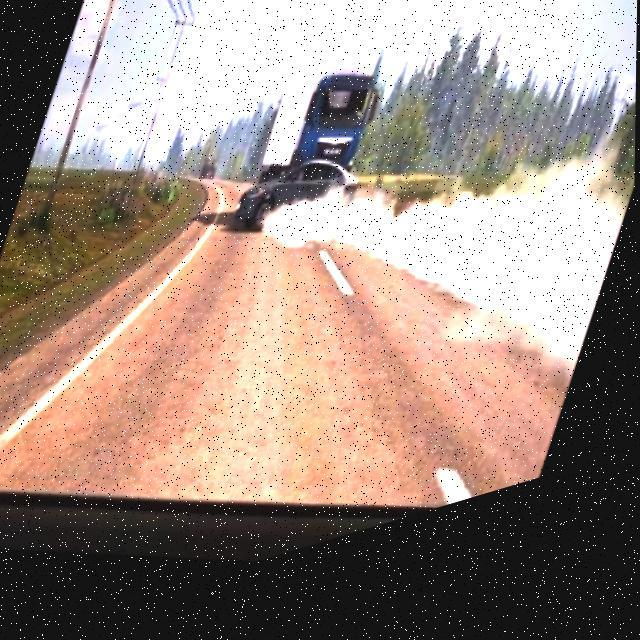Car Accident Detector - v4 Generation1 Exported: (214, 33, 410, 295)
